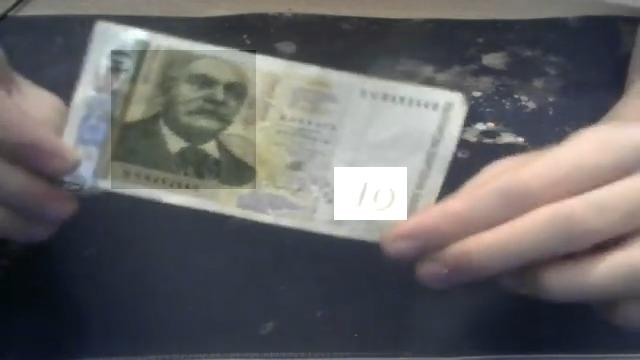10leva: (111, 50, 256, 189), (334, 167, 407, 220)
